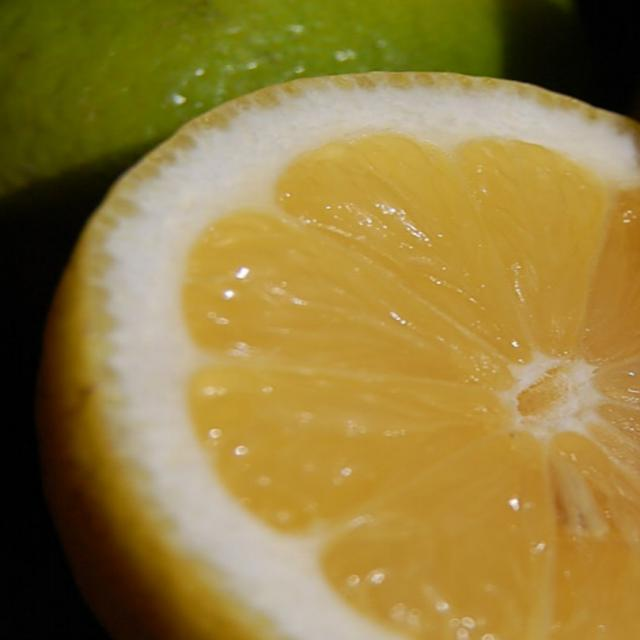Lemon: (42, 58, 639, 640), (0, 0, 507, 207)
